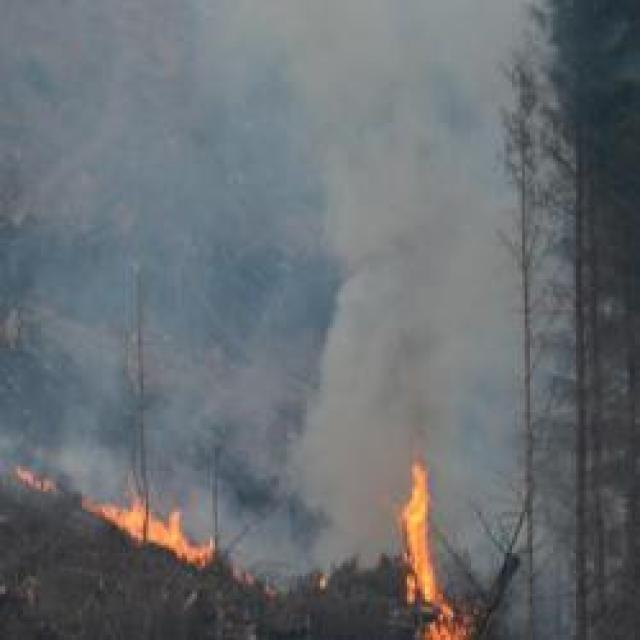Fire: (402, 461, 474, 639), (82, 500, 220, 570), (12, 472, 56, 493)
Smoke: (44, 6, 522, 442), (261, 447, 388, 567)
